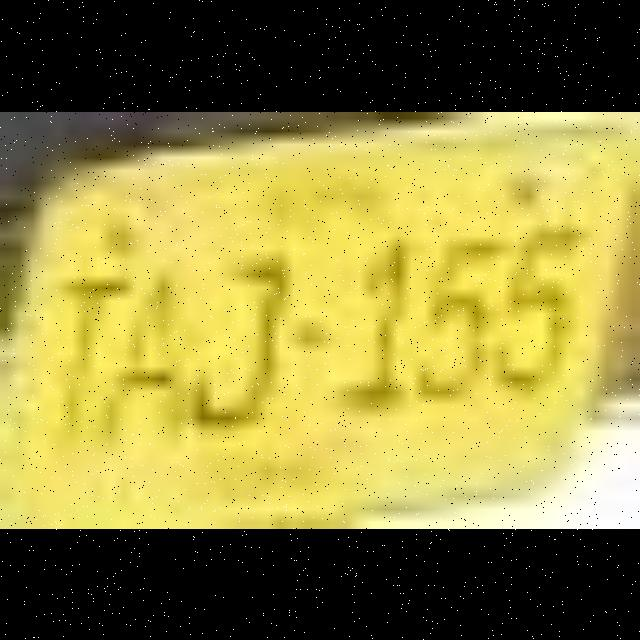1: (353, 190, 431, 464)
5: (431, 190, 509, 464), (510, 190, 588, 464)
A: (118, 190, 196, 464)
J: (196, 190, 274, 464)
T: (39, 190, 117, 464)
